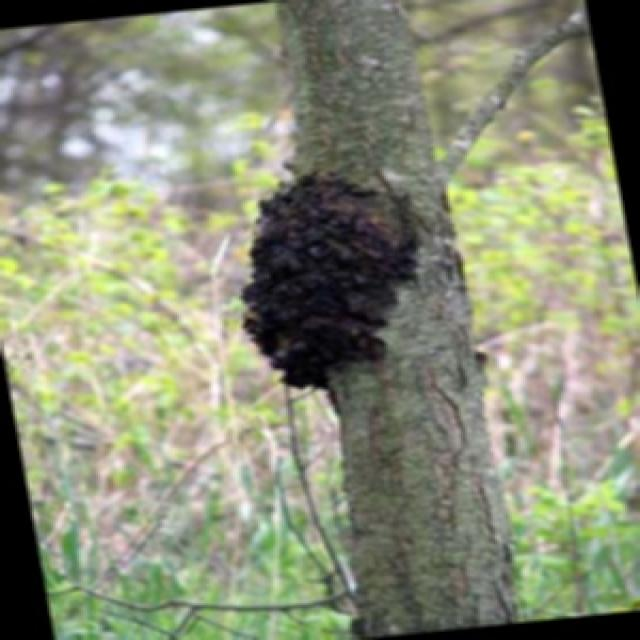Black_knot: (237, 168, 420, 390)
